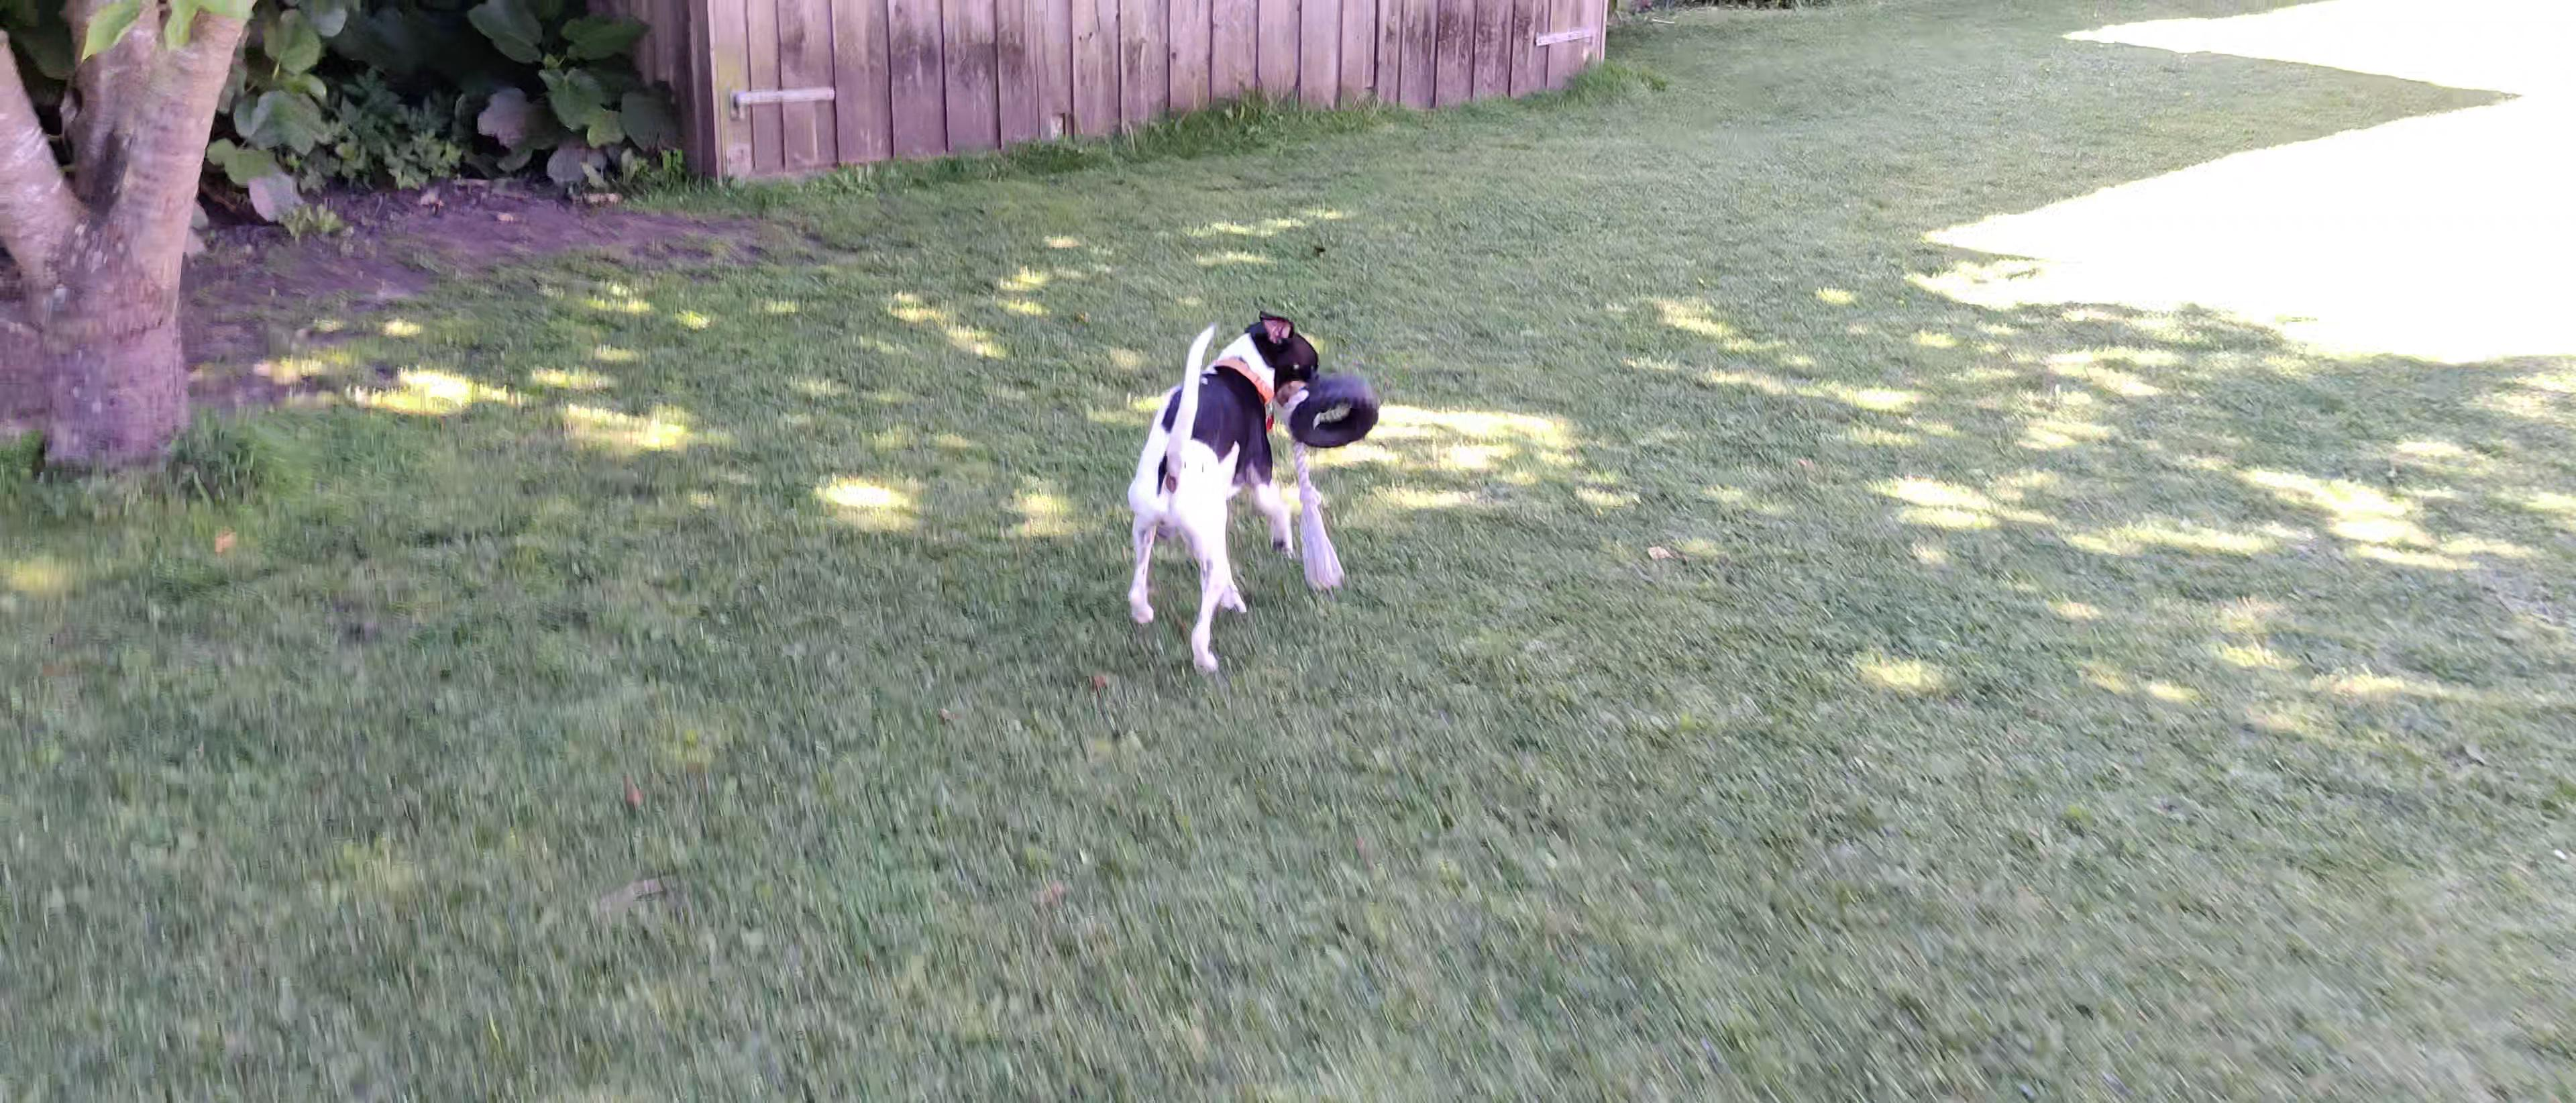Dog: (1124, 304, 1327, 676)
